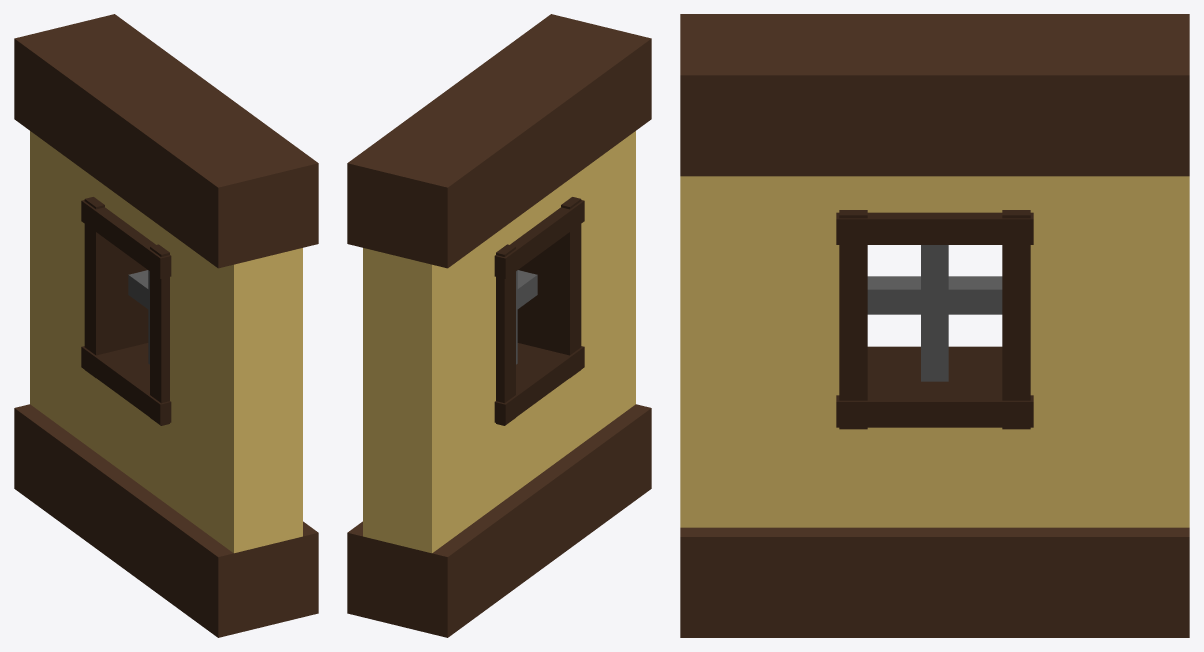
The model's file is Wall_Window_Closed.fbx.
The picture shows the model from 3 angles, left to right: view 1: azimuth 30°, elevation 25°; view 2: azimuth 150°, elevation 25°; view 3: azimuth 270°, elevation 25°; orthographic projection. The views are drawn at different scales.
Parts seen in each view (by area): view 1: Wall Window Closed; view 2: Wall Window Closed; view 3: Wall Window Closed.
Part boxes in pixels (left/top/right/bottom): Wall Window Closed: left=14, top=14, right=318, bottom=637; Wall Window Closed: left=347, top=14, right=651, bottom=637; Wall Window Closed: left=680, top=14, right=1189, bottom=637.
Bounding box in the file's own units: 56.9 × 244 × 200.
